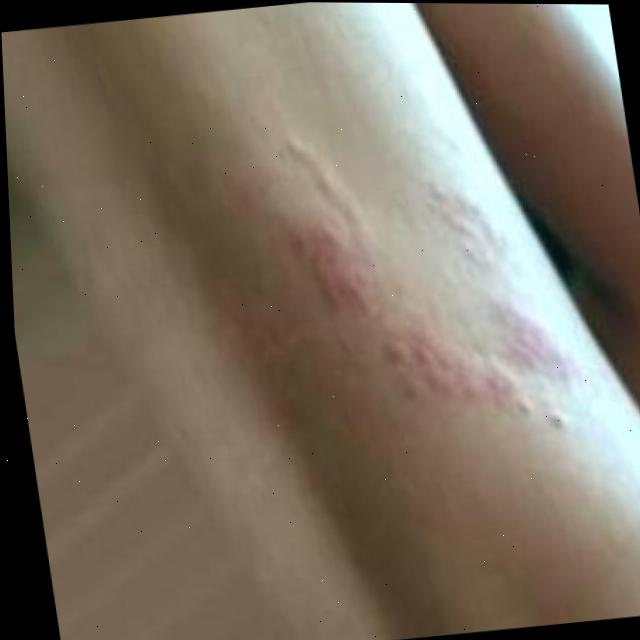Shingles: (281, 167, 571, 434)
